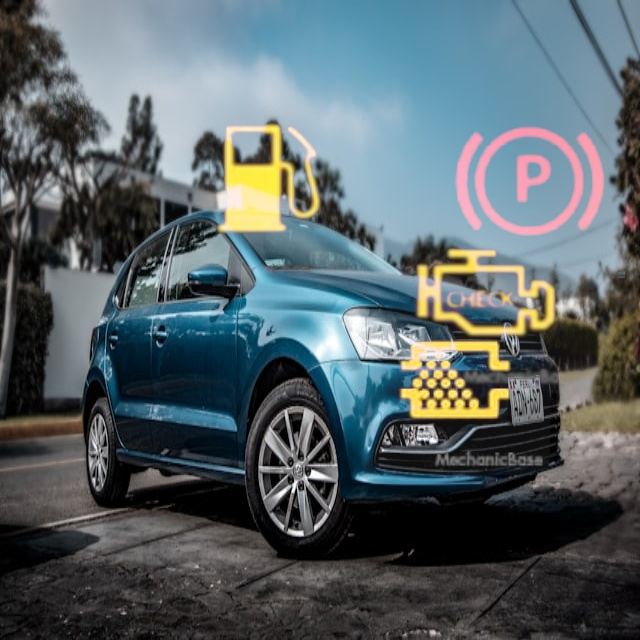symbol: (163, 74, 375, 286), (423, 78, 634, 289), (385, 193, 585, 393), (362, 287, 550, 475)
